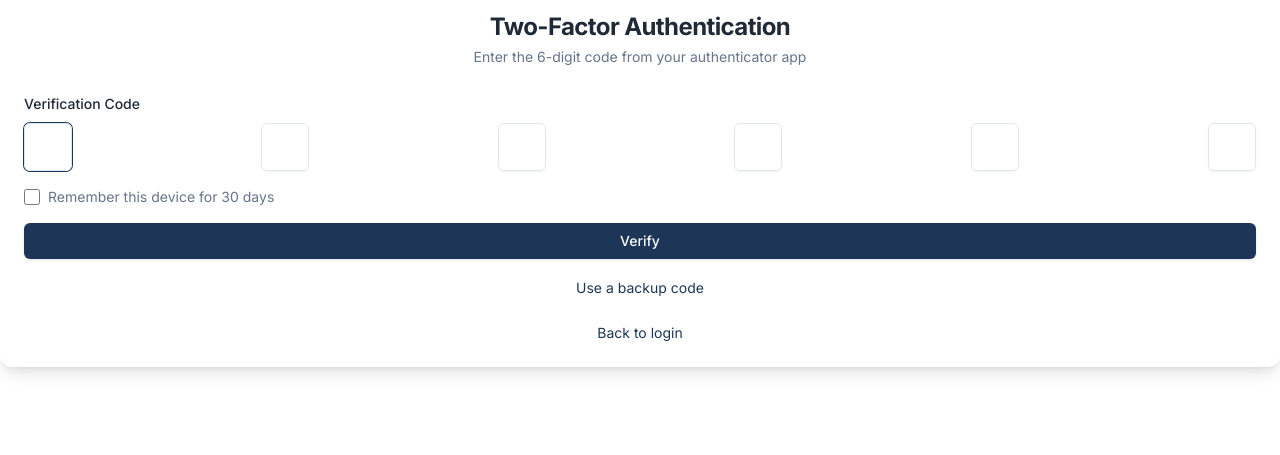
Test: VerifyMfaPage › should clear error when toggling between modes
The image size is (1280, 455).
Note: Trigger an error
Click the button "Verify": [640, 241] box 24,223 -> 1256,259
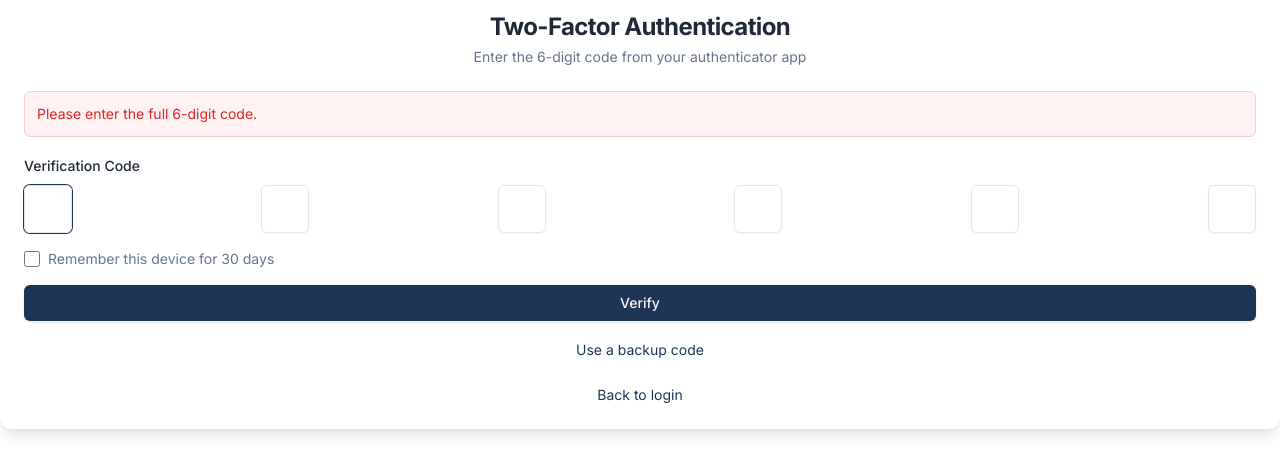
Check: the text "Please enter the full 6-digit code." is shown, box 24,91 -> 1256,137
Note: Toggle to backup code - error should clear
Click the button "Use a backup code": [640, 350] box 576,340 -> 704,360
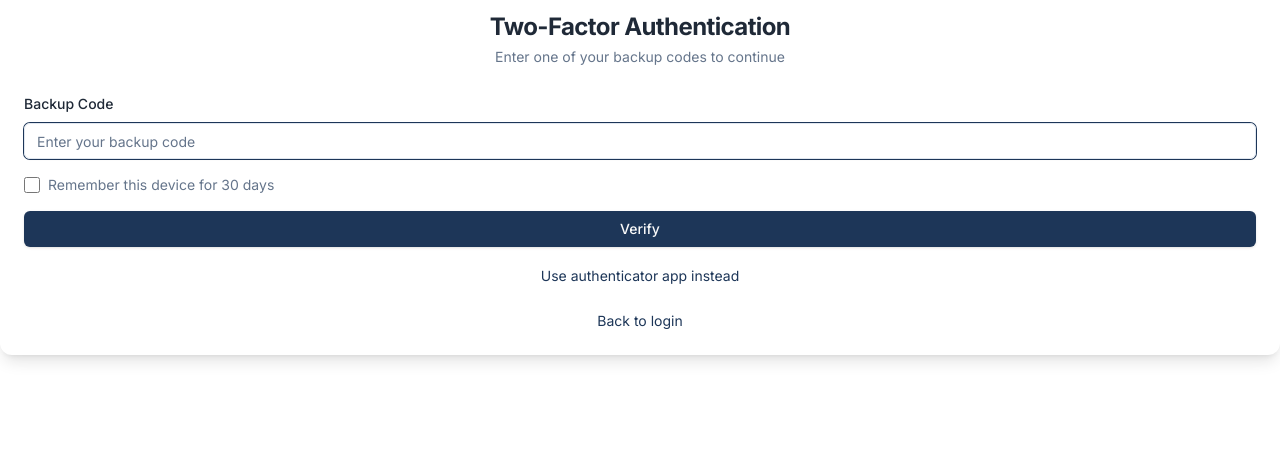
Check: the text "Please enter the full 6-digit code." is gone
